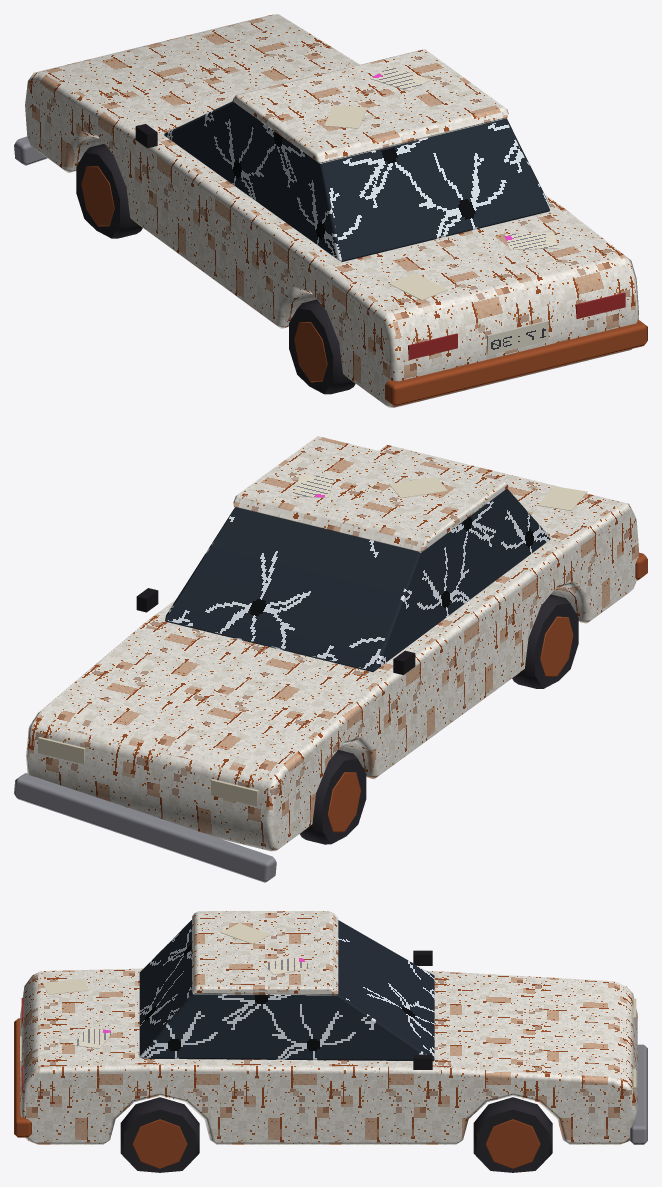
Rendered from s_carwreck.glb.
The picture shows the model from 3 angles, top to bottom: view 1: azimuth 30°, elevation 25°; view 2: azimuth 150°, elevation 25°; view 3: azimuth 270°, elevation 25°; orthographic projection. The views are drawn at different scales.
Parts seen in each view (by area): view 1: s_carwreck_mesh; view 2: s_carwreck_mesh; view 3: s_carwreck_mesh.
Part boxes in pixels (x1,y1,x2,y2): s_carwreck_mesh: (14, 14, 647, 407); s_carwreck_mesh: (14, 436, 647, 882); s_carwreck_mesh: (14, 911, 647, 1172).
Size of what is drawn, in the model's own units: 1.85 by 1.39 by 4.58.
Materials: 3 (3 with a texture image).
